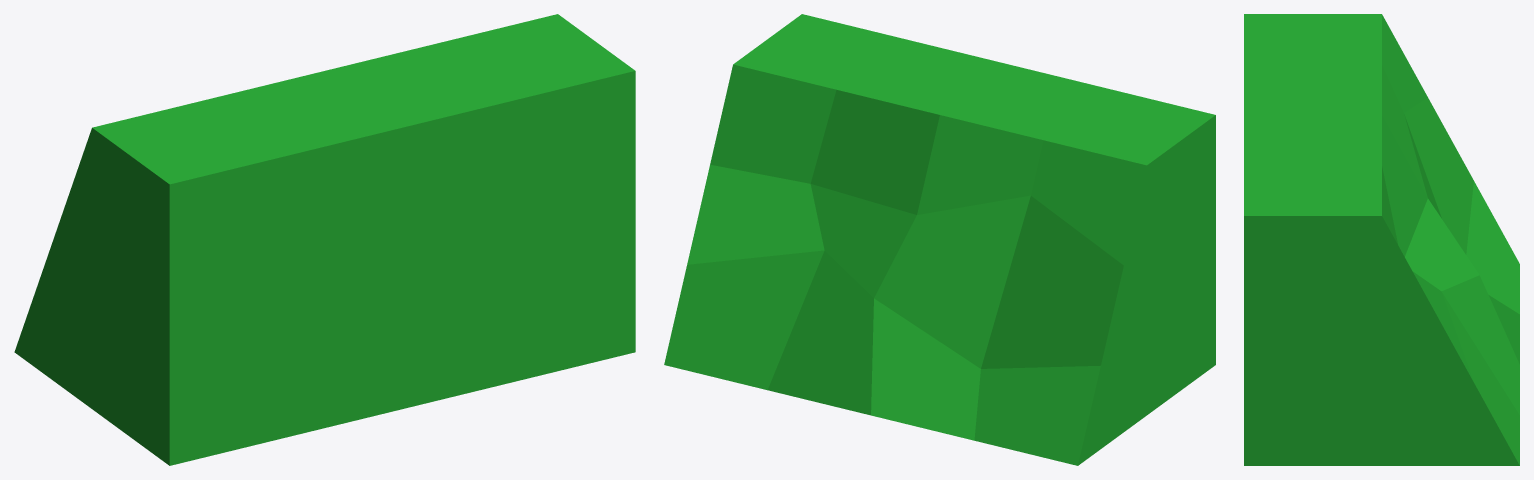
Rendered from module-edge_land_cliff_left.glb.
3 views of the same model, side by side, from view 1: azimuth 30°, elevation 25°; view 2: azimuth 150°, elevation 25°; view 3: azimuth 270°, elevation 25° (orthographic). The views are drawn at different scales.
Visible parts, largest first — view 1: module-edge_land_cliff_left; view 2: module-edge_land_cliff_left; view 3: module-edge_land_cliff_left.
Boxes of the visible parts, x1,y1,x2,y2 form: module-edge_land_cliff_left: (14,14,635,465); module-edge_land_cliff_left: (664,14,1215,465); module-edge_land_cliff_left: (1244,14,1519,465).
Size of the model in its own units: 0.866 by 0.5 by 0.5.
